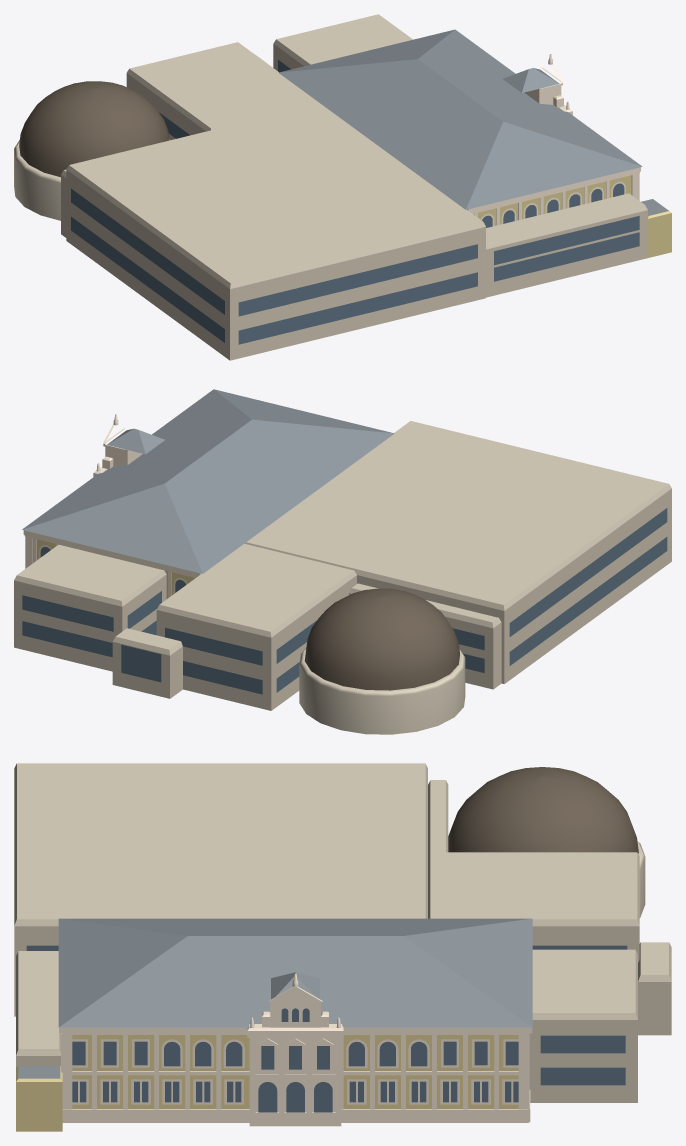
The model's file is cpt-iziko-museum.glb.
3 views of the same model, one above another, from view 1: azimuth 30°, elevation 25°; view 2: azimuth 150°, elevation 25°; view 3: azimuth 270°, elevation 25° (orthographic). The views are drawn at different scales.
Parts seen in each view (by area): view 1: Iziko South African Museum; view 2: Iziko South African Museum; view 3: Iziko South African Museum.
Boxes of the visible parts, x1,y1,x2,y2 form: Iziko South African Museum: (14, 14, 671, 360); Iziko South African Museum: (14, 389, 671, 734); Iziko South African Museum: (14, 763, 671, 1131).
Size of the model in its own units: 79.05 by 20.4 by 80.5.
